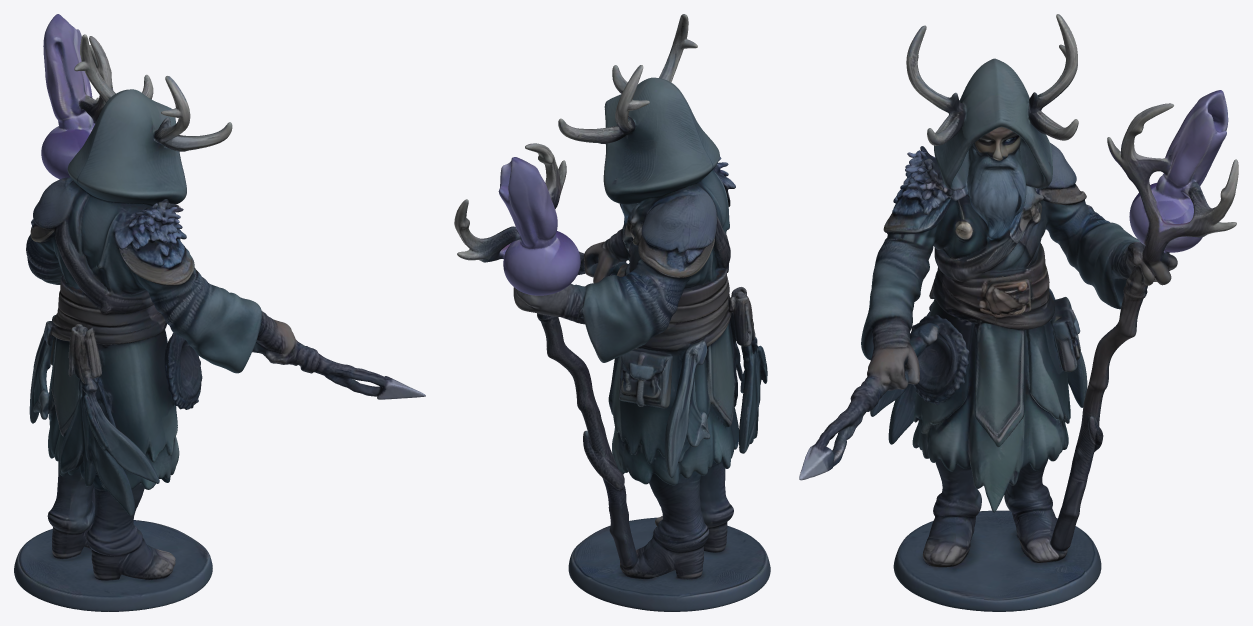
3 renders of one model, left to right at view 1: azimuth 30°, elevation 25°; view 2: azimuth 150°, elevation 25°; view 3: azimuth 270°, elevation 25°, orthographic. The views are drawn at different scales.
Parts seen in each view (by area): view 1: tripo_node_99852c75-4785-4d95-beb4-3a29af245a19; view 2: tripo_node_99852c75-4785-4d95-beb4-3a29af245a19; view 3: tripo_node_99852c75-4785-4d95-beb4-3a29af245a19.
Boxes of the visible parts, <box> form: tripo_node_99852c75-4785-4d95-beb4-3a29af245a19: <box>14,14,425,611</box>; tripo_node_99852c75-4785-4d95-beb4-3a29af245a19: <box>454,14,770,611</box>; tripo_node_99852c75-4785-4d95-beb4-3a29af245a19: <box>799,14,1238,611</box>.
Bounding box in the file's own units: 0.6217 × 1 × 0.7202.
Materials: 1 (1 with a texture image).
